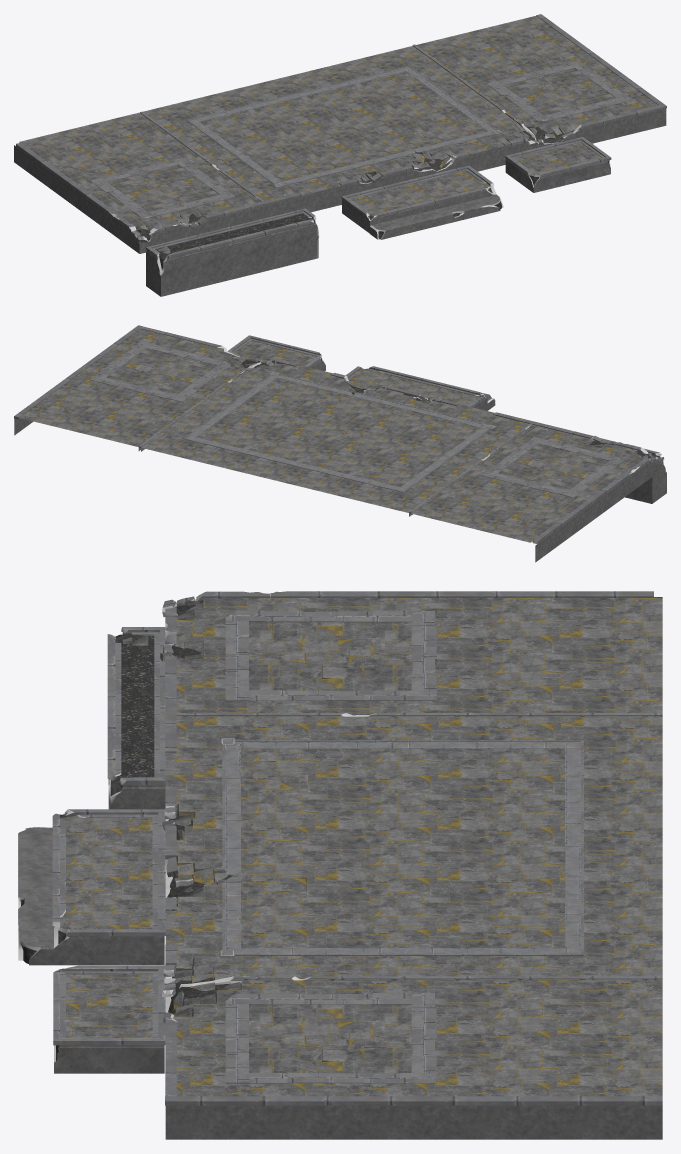
Rendered from SM_Alt_Flo_01AH.fbx.
3 views of the same model, one above another, from view 1: azimuth 30°, elevation 25°; view 2: azimuth 150°, elevation 25°; view 3: azimuth 270°, elevation 25° (orthographic). The views are drawn at different scales.
Visible parts, largest first — view 1: SM_Alt_Flo_01AH.mo; view 2: SM_Alt_Flo_01AH.mo; view 3: SM_Alt_Flo_01AH.mo.
Boxes of the visible parts, <box> form: SM_Alt_Flo_01AH.mo: <box>14,14,666,296</box>; SM_Alt_Flo_01AH.mo: <box>14,325,666,562</box>; SM_Alt_Flo_01AH.mo: <box>18,591,662,1139</box>.
Bounding box in the file's own units: 67.77 × 6.78 × 36.18.
